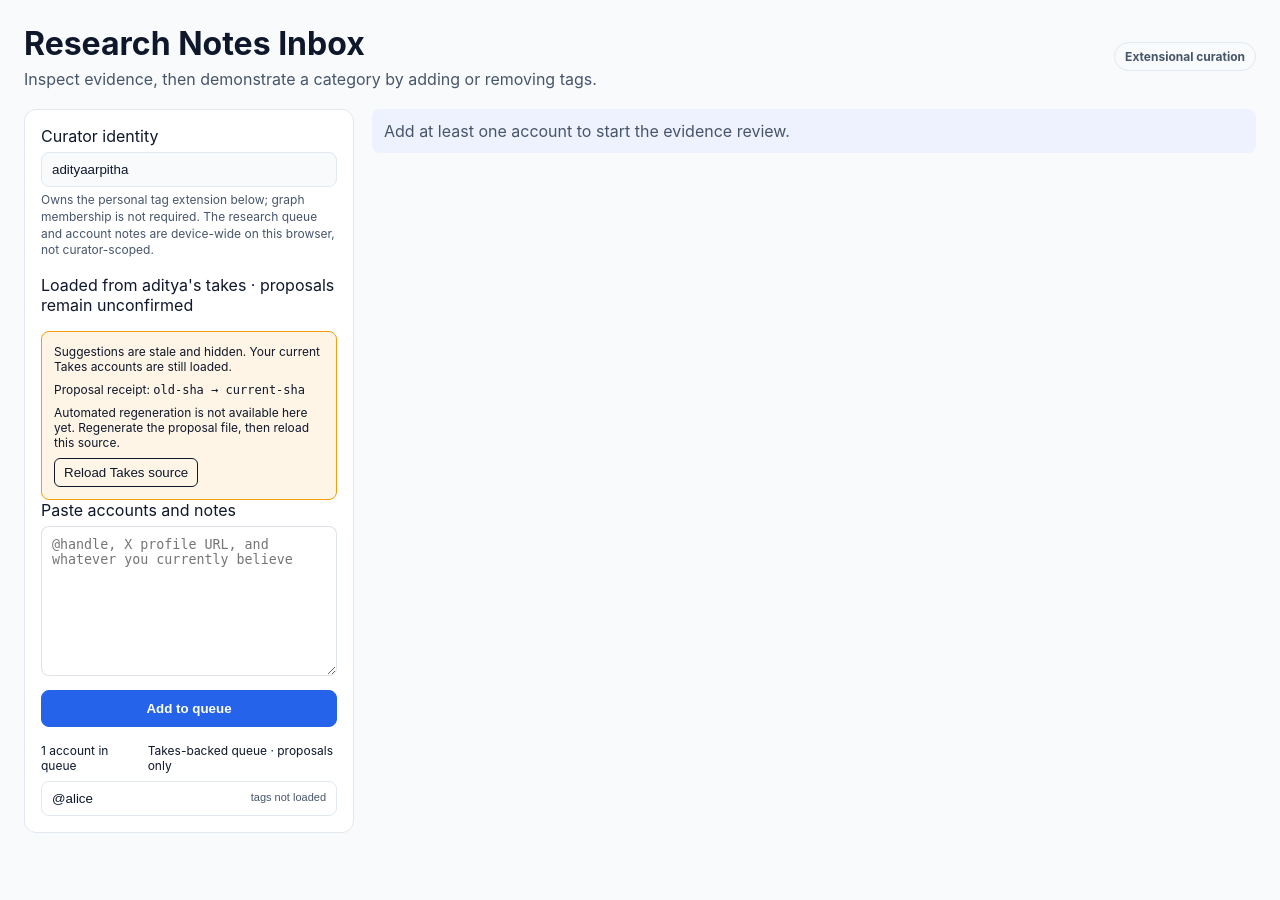
Test: ResearchNotesInbox › removes stale proposal status when a source reload fails
The width and height of the screenshot is (1280, 900).
Click the button "Reload Takes source" at {"x": 126, "y": 473}, box x1=54 y1=458 x2=198 y2=487
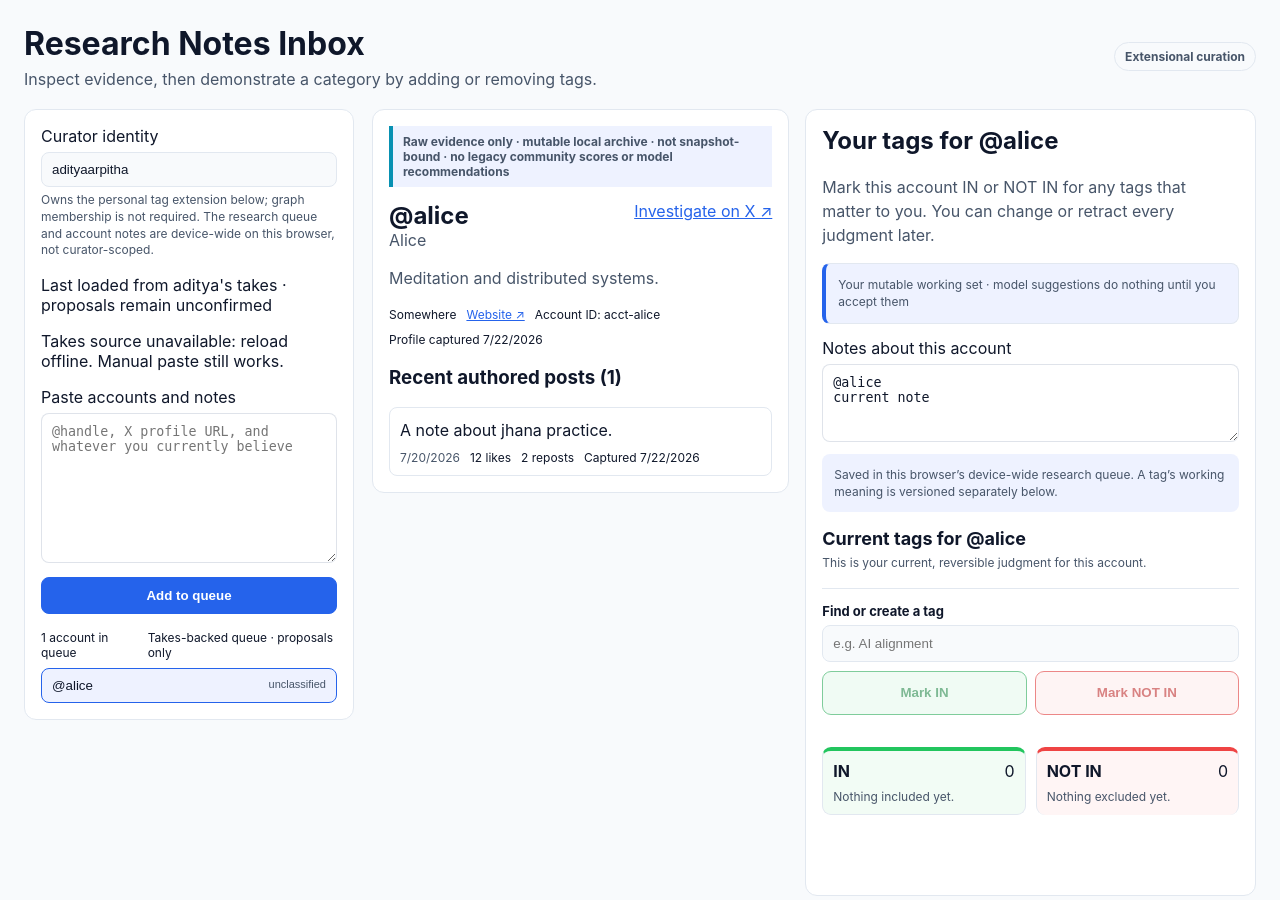
Check: the text "Takes source unavailable: reload offline" is shown, box x1=41 y1=331 x2=288 y2=371
Check: the text "Proposal receipt:" is gone
